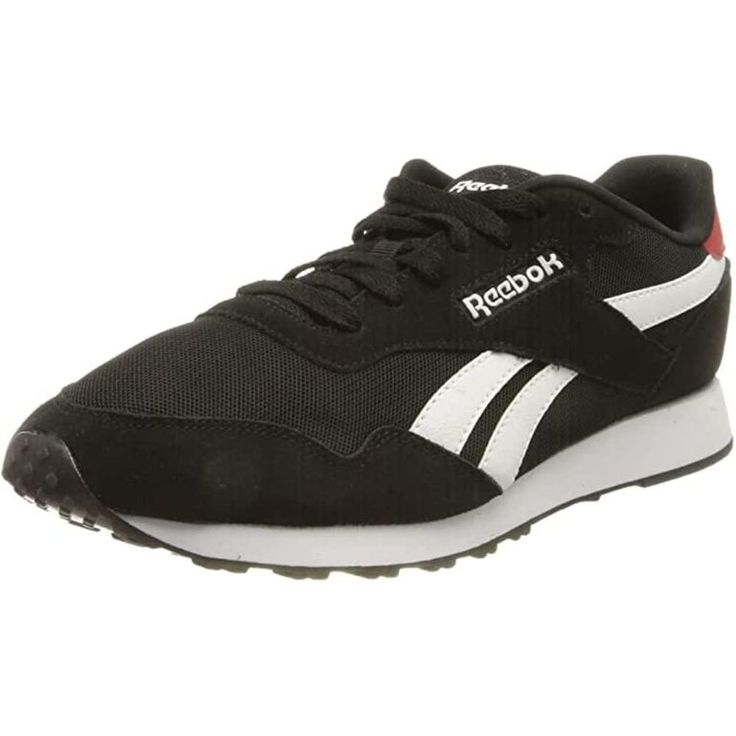gamuza: (21, 188, 733, 530)
